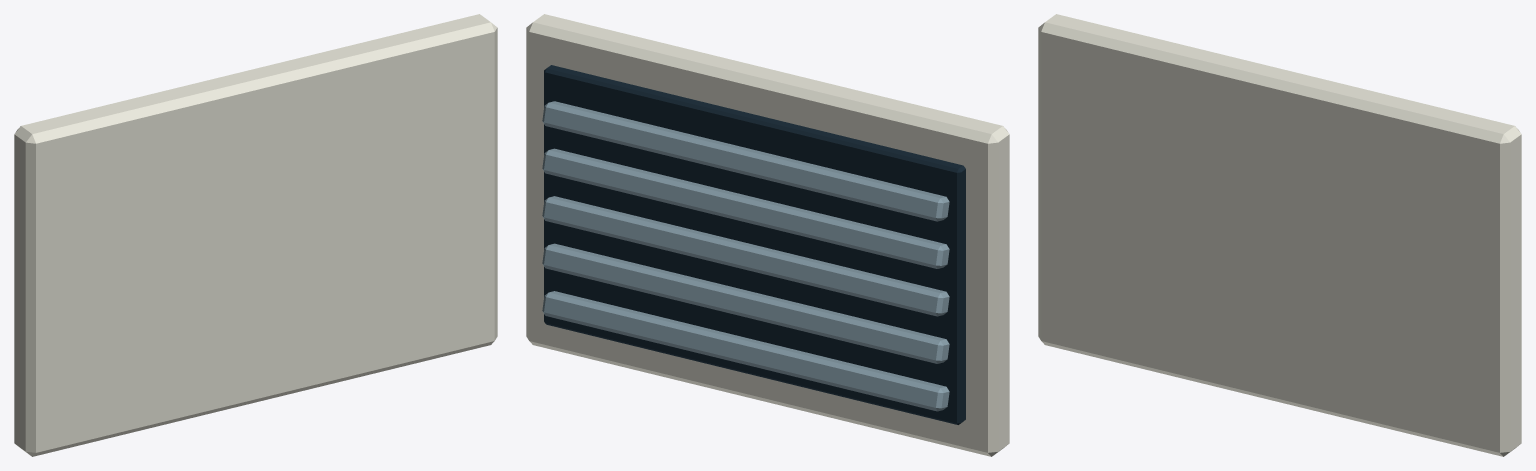
Rendered from wall_ventilation_grille.glb.
The picture shows the model from 3 angles, left to right: view 1: azimuth 30°, elevation 25°; view 2: azimuth 150°, elevation 25°; view 3: azimuth 330°, elevation 25°; orthographic projection.
Parts seen in each view (by area): view 1: vent_frame; view 2: vent_recess, vent_slat (×5), vent_frame; view 3: vent_frame.
Boxes of the visible parts, left/top/right/bottom form: vent_frame: left=14, top=14, right=497, bottom=456; vent_recess: left=544, top=65, right=965, bottom=424; vent_slat (×5): left=542, top=101, right=949, bottom=411; vent_frame: left=526, top=14, right=1009, bottom=456; vent_frame: left=1038, top=14, right=1521, bottom=456.
Size of the model in its own units: 0.52 by 0.34 by 0.0716.
